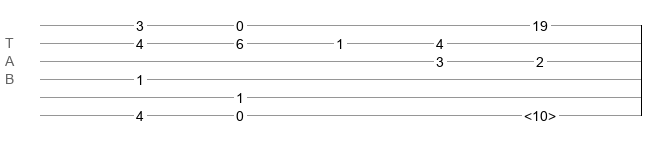0: (236, 108, 244, 118), (236, 18, 244, 28)
1: (136, 72, 144, 82), (236, 90, 244, 100), (336, 36, 344, 46)
19: (532, 18, 548, 28)
2: (536, 54, 544, 64)
3: (136, 18, 144, 28), (436, 54, 444, 64)
4: (136, 108, 144, 118), (136, 36, 144, 46), (436, 36, 444, 46)
6: (236, 36, 244, 46)
harmonic: (524, 108, 556, 118)
